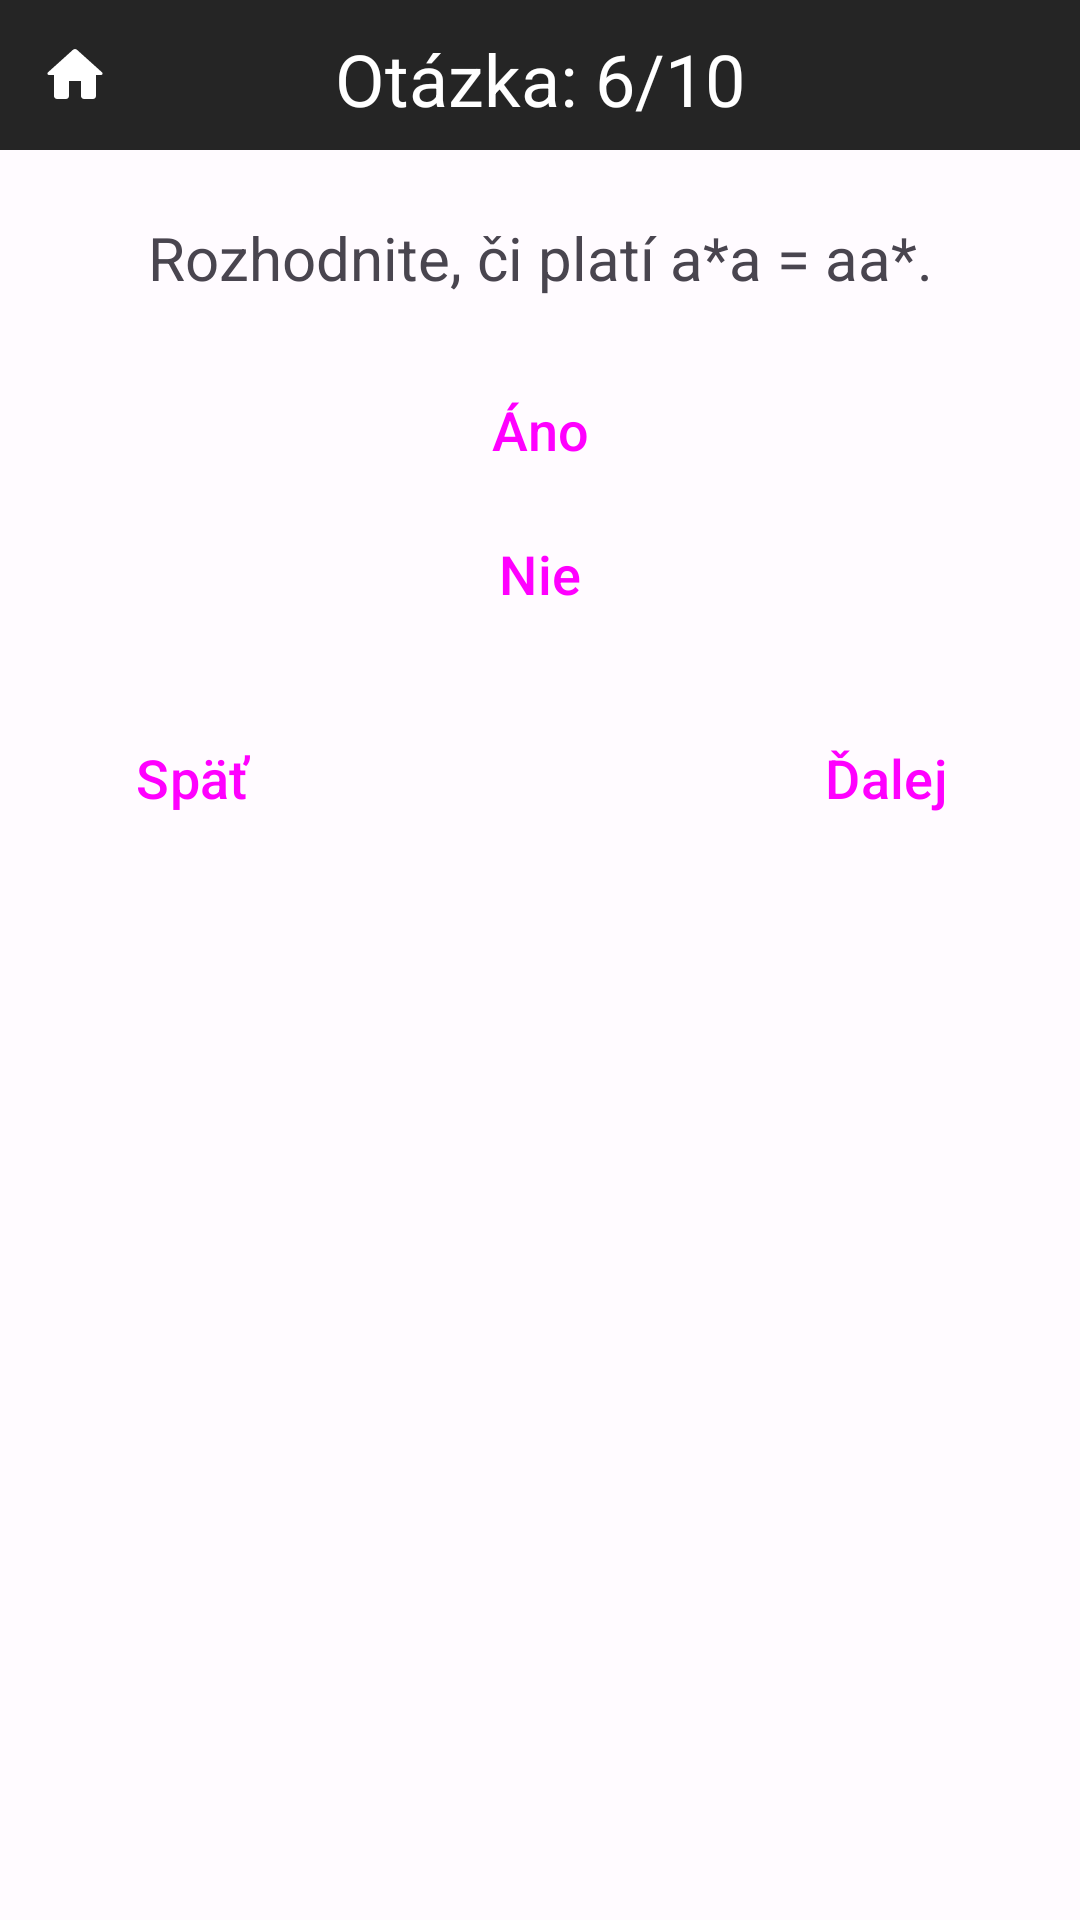

Icons on this 1080*1920 Android screen, each with the point to tap as (x=x, y=y):
domov: (x=75, y=74)
